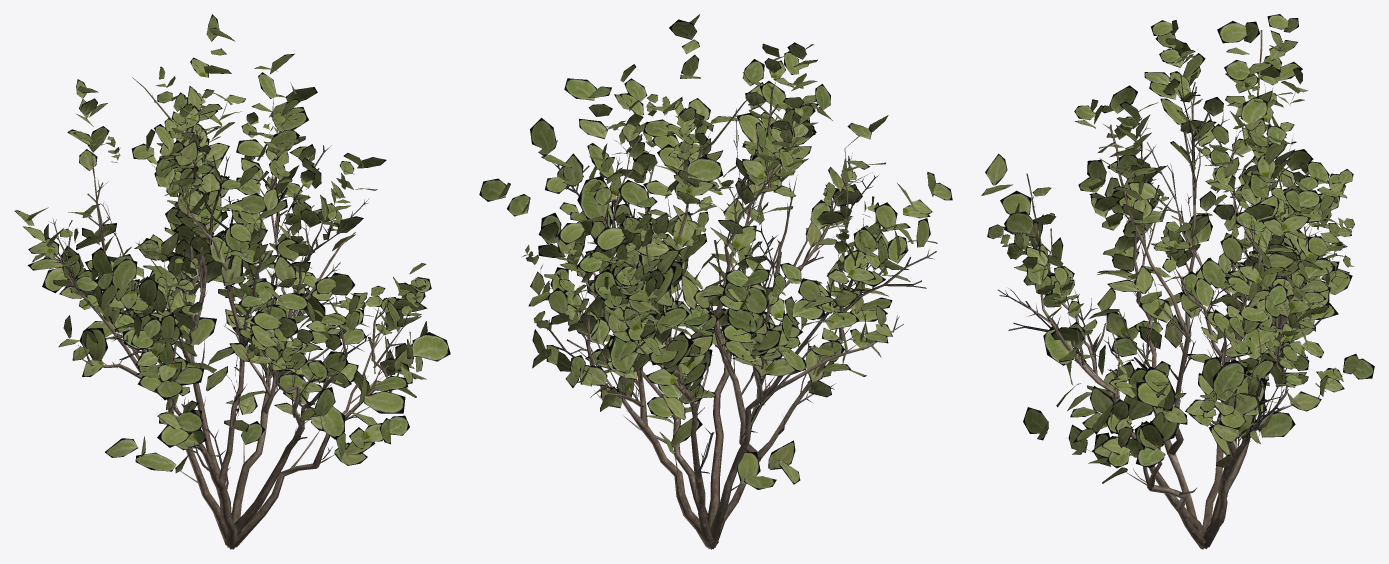
Rendered from arbuste_searsia_d_lod0.glb.
The picture shows the model from 3 angles, left to right: view 1: azimuth 30°, elevation 25°; view 2: azimuth 150°, elevation 25°; view 3: azimuth 270°, elevation 25°; orthographic projection. The views are drawn at different scales.
Visible parts, largest first — view 1: searsia_lucida_d_LOD0; view 2: searsia_lucida_d_LOD0; view 3: searsia_lucida_d_LOD0.
Boxes of the visible parts, <box> form: searsia_lucida_d_LOD0: <box>14,14,450,549</box>; searsia_lucida_d_LOD0: <box>479,14,952,549</box>; searsia_lucida_d_LOD0: <box>981,14,1374,549</box>.
Size of the model in its own units: 1.08 by 1.4 by 0.944.
2 materials, 2 textured.
